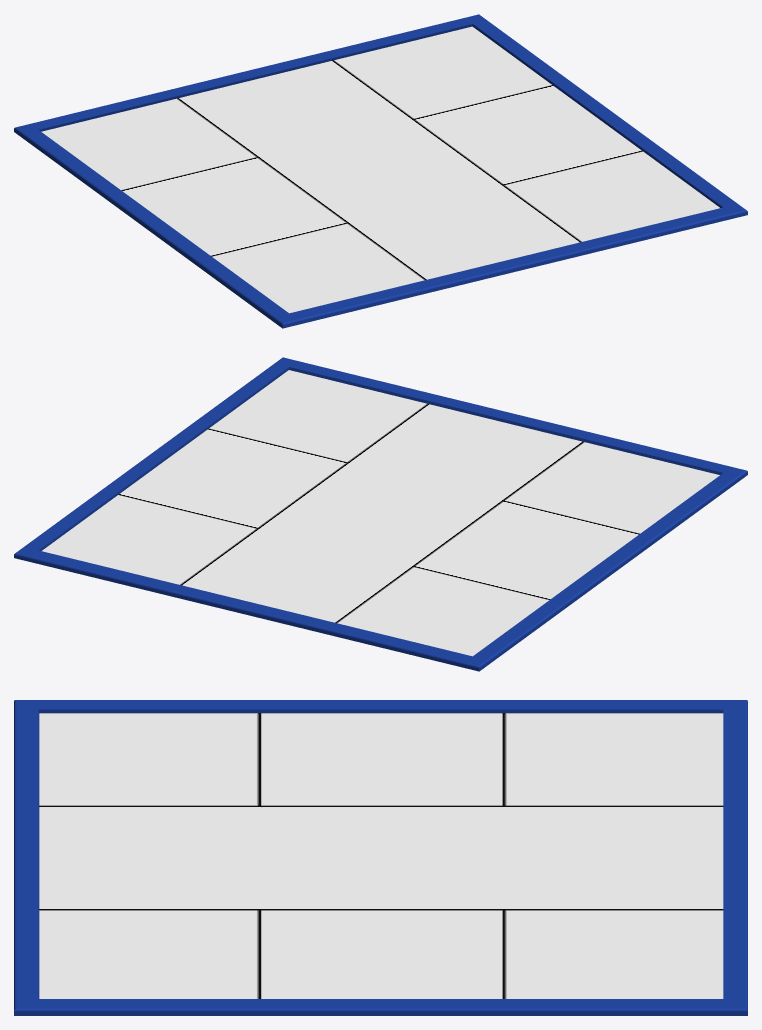
Rendered from frame2topView.glb.
3 renders of one model, top to bottom at view 1: azimuth 30°, elevation 25°; view 2: azimuth 150°, elevation 25°; view 3: azimuth 270°, elevation 25°, orthographic. The views are drawn at different scales.
Parts seen in each view (by area): view 1: Plane; view 2: Plane; view 3: Plane.
Boxes of the visible parts, left/top/right/bottom form: Plane: left=14, top=14, right=747, bottom=328; Plane: left=14, top=357, right=747, bottom=671; Plane: left=14, top=700, right=747, bottom=1015.
Size of the model in its own units: 2 by 0.02 by 2.
2 materials, 1 textured.
